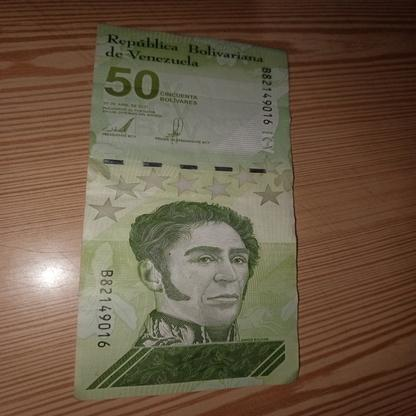vef_front: (73, 22, 298, 402)
